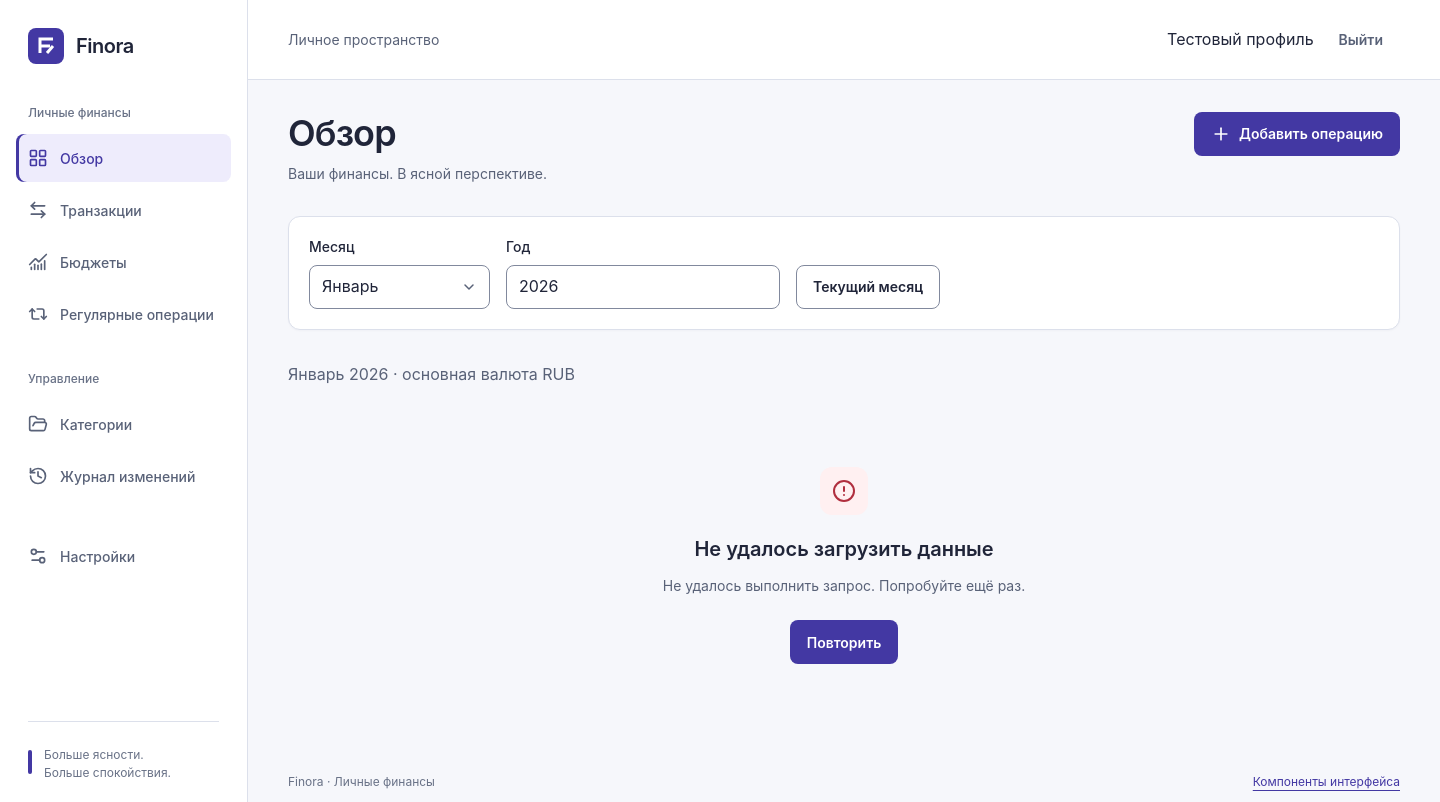
ошибка → retry → успех того же периода
The image size is (1440, 802).
Click the button "Повторить": click(844, 642) [790,620,898,664]
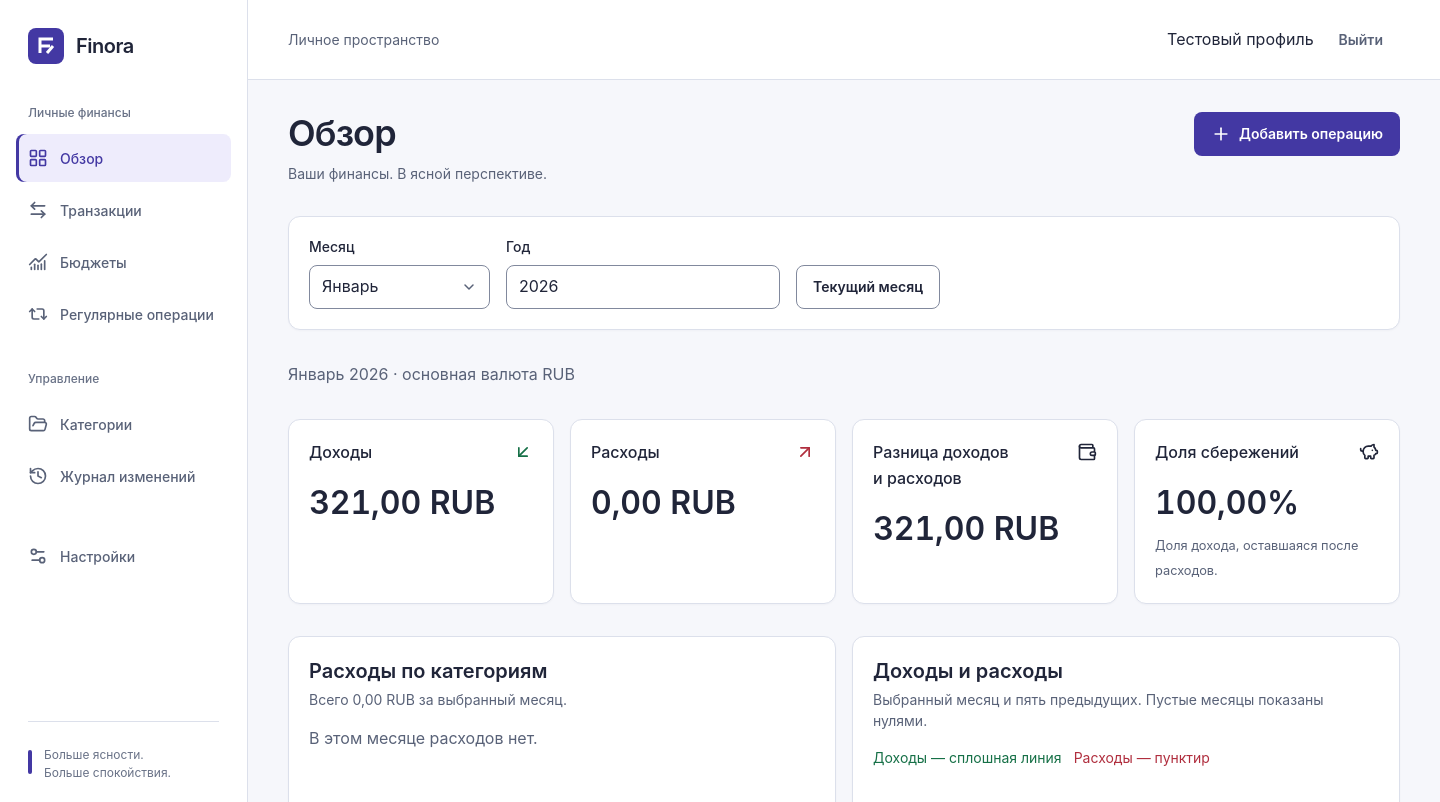
Result: the 1st text "321,00 RUB" is shown at [309,483,495,522]
Result: the message is gone
